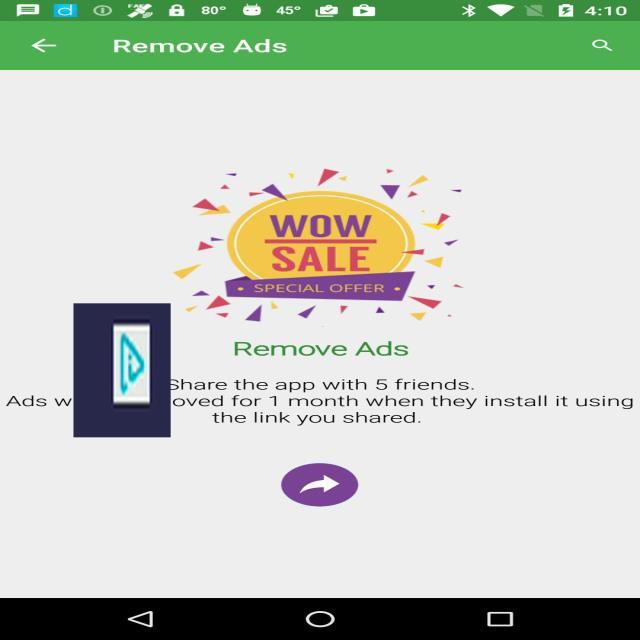sneaking: (74, 304, 170, 438)
